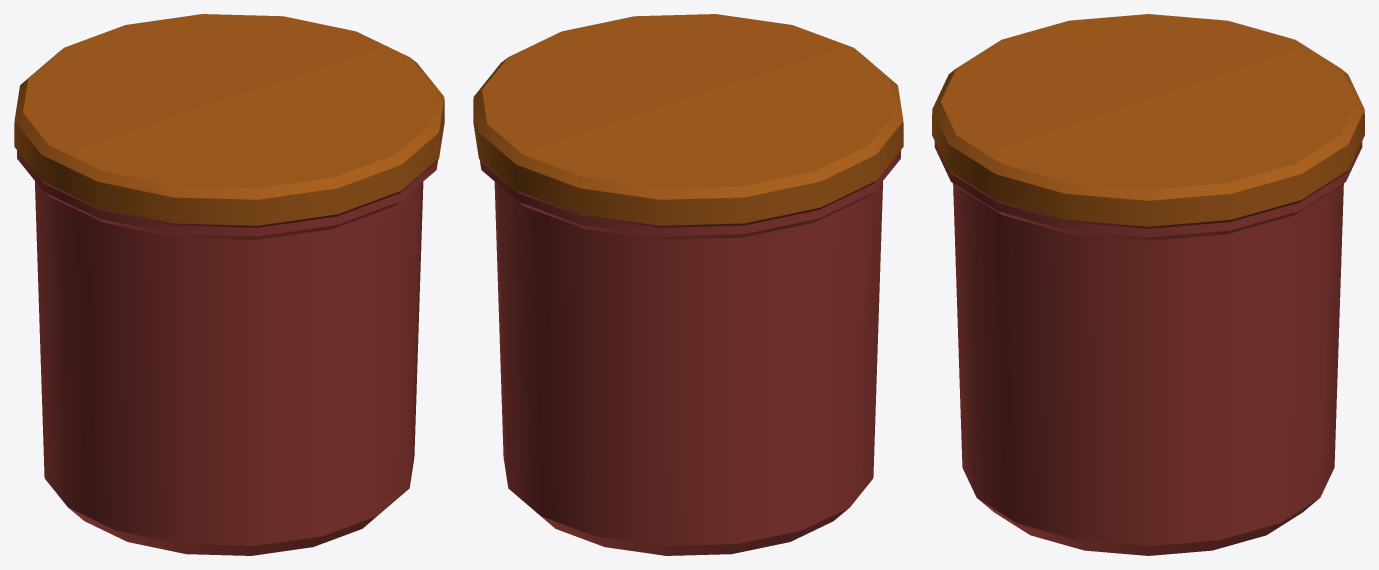
File: Jar.glb
3 renders of one model, left to right at view 1: azimuth 30°, elevation 25°; view 2: azimuth 150°, elevation 25°; view 3: azimuth 270°, elevation 25°, orthographic.
Visible parts, largest first — view 1: Jar; view 2: Jar; view 3: Jar.
Part boxes in pixels (left/top/right/bottom): Jar: left=14, top=14, right=444, bottom=555; Jar: left=473, top=14, right=903, bottom=555; Jar: left=932, top=14, right=1364, bottom=555.
Bounding box in the file's own units: 0.1543 × 0.1509 × 0.1543.
Materials: 1 (1 with a texture image).
